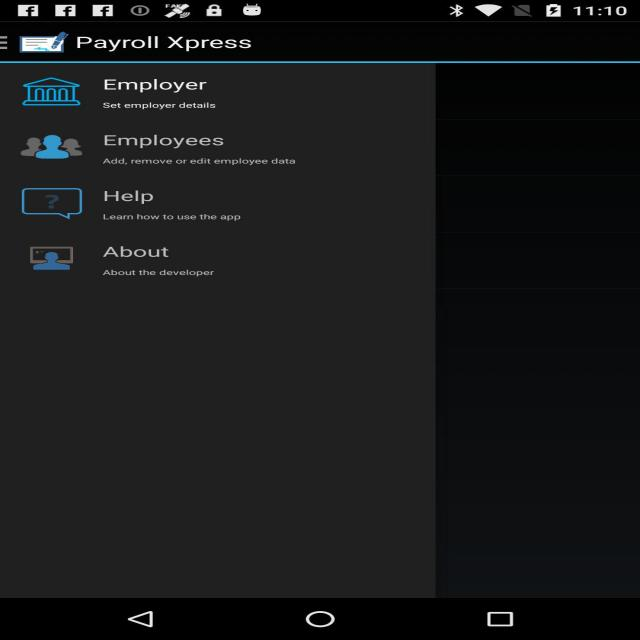image: (12, 179, 92, 225), (7, 130, 98, 166), (12, 73, 88, 110), (24, 238, 88, 275), (15, 30, 76, 54)
text: (103, 129, 317, 172), (101, 186, 274, 227), (97, 75, 250, 115), (96, 242, 242, 282), (72, 31, 267, 56)
